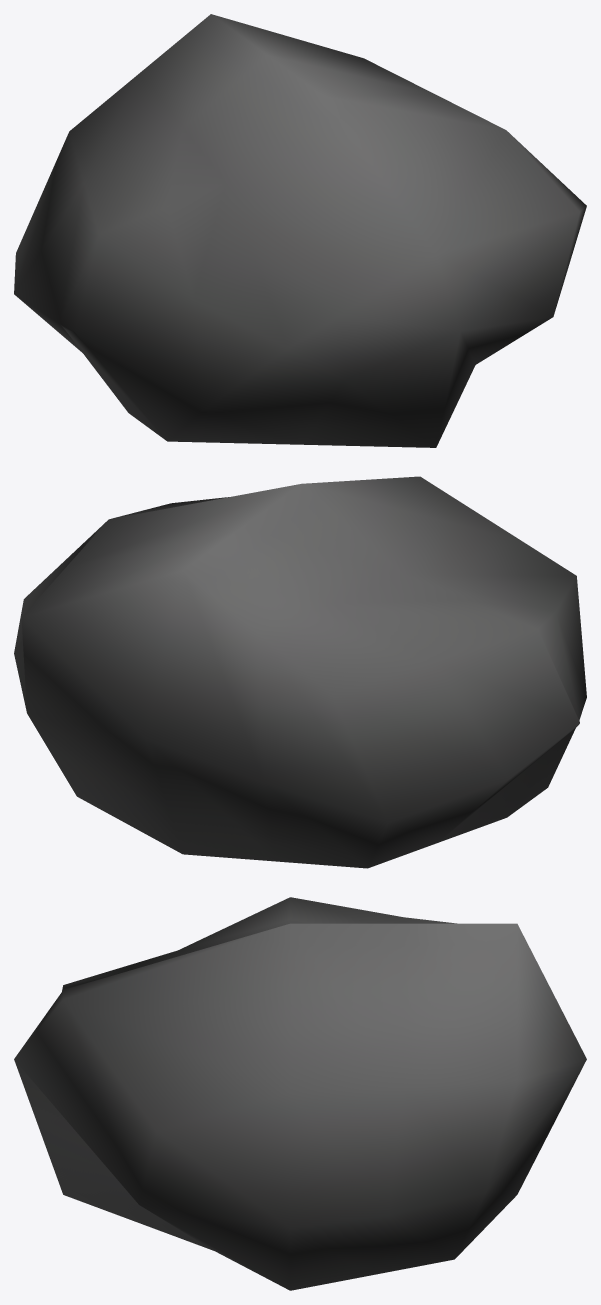
Rendered from W3_OBSTACLE_3.fbx.
The picture shows the model from 3 angles, top to bottom: view 1: azimuth 30°, elevation 25°; view 2: azimuth 150°, elevation 25°; view 3: azimuth 270°, elevation 25°; orthographic projection. The views are drawn at different scales.
Visible parts, largest first — view 1: W3_OBSTACLE_3; view 2: W3_OBSTACLE_3; view 3: W3_OBSTACLE_3.
Boxes of the visible parts, left/top/right/bottom form: W3_OBSTACLE_3: left=14, top=14, right=586, bottom=447; W3_OBSTACLE_3: left=14, top=476, right=586, bottom=868; W3_OBSTACLE_3: left=14, top=897, right=586, bottom=1290.
Size of the model in its own units: 676 by 330 by 631.
